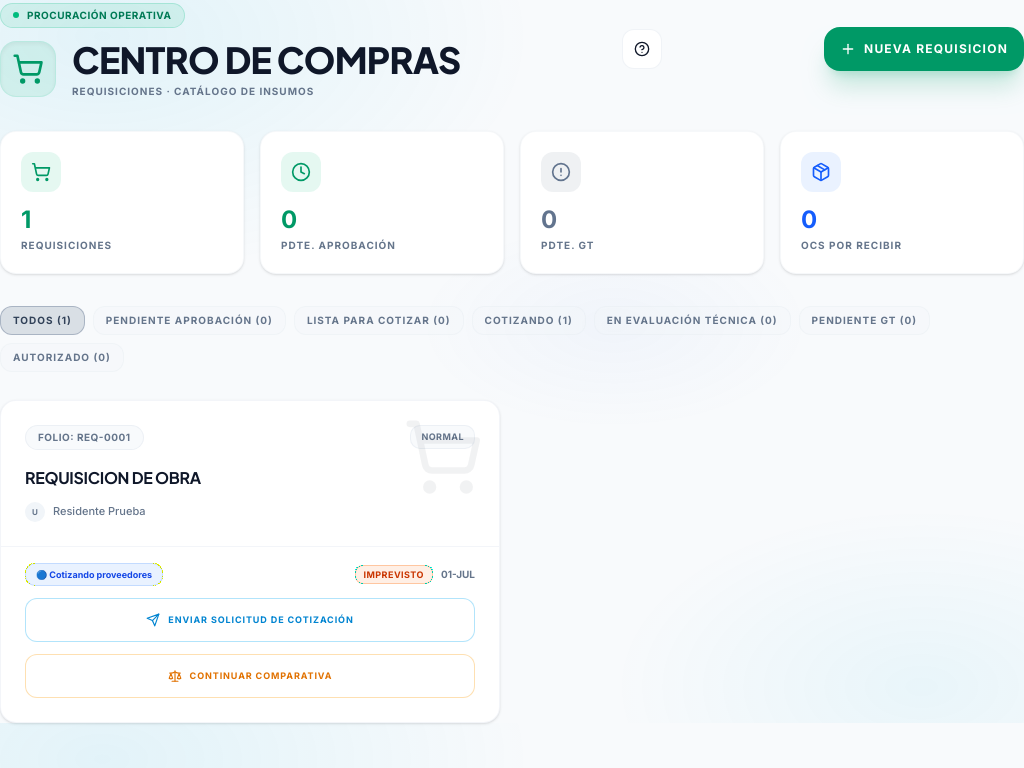
Test: ComprasView — líneas de texto libre no colapsan al normalizar › dos líneas de texto libre (sin insumo_id) del mismo proveedor se muestran como líneas distintas, con sus precios propios
The width and height of the screenshot is (1024, 768).
Click the button "Continuar comparativa" at (250, 676), box [25,654,475,698]
(page scrolled)
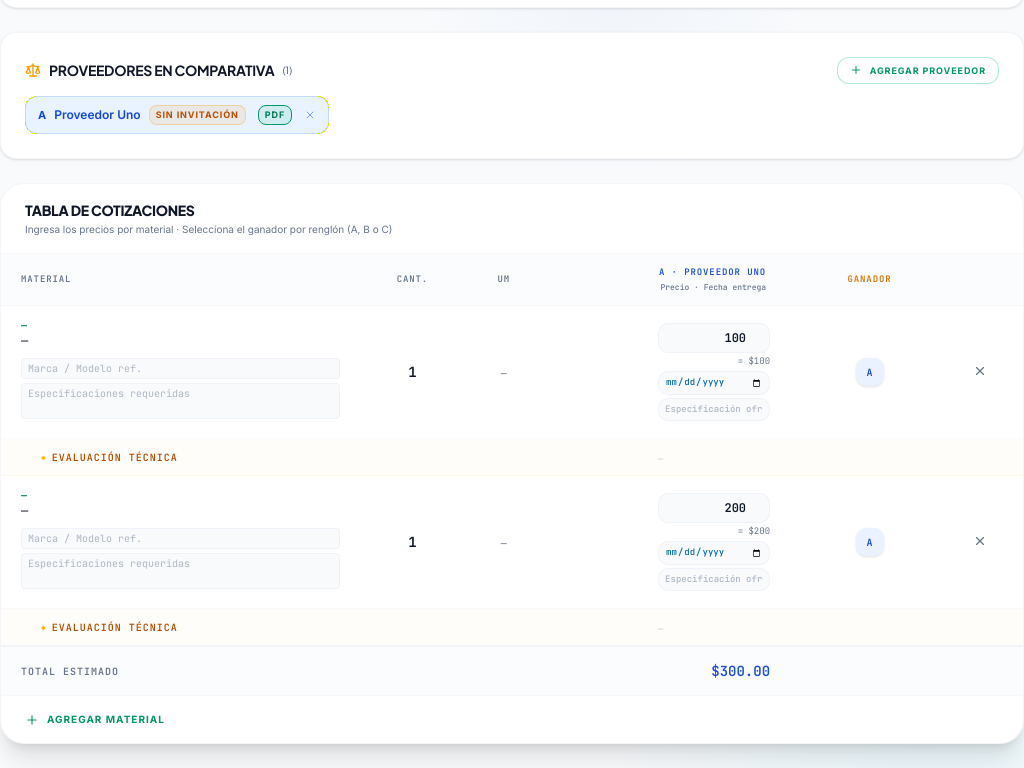
Result: the 1st number field showing "100" is shown at [658,323,770,353]
Result: the 2nd number field showing "200" is shown at [658,493,770,523]
